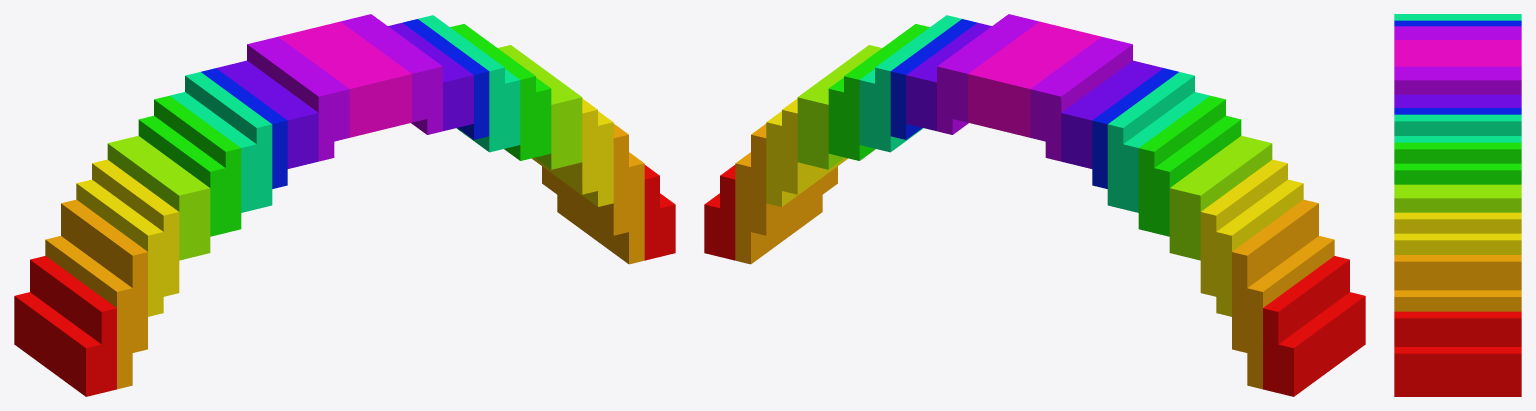
The model's file is rainbow.obj.
3 views of the same model, side by side, from view 1: azimuth 30°, elevation 25°; view 2: azimuth 150°, elevation 25°; view 3: azimuth 270°, elevation 25° (orthographic). The views are drawn at different scales.
Size of the model in its own units: 38 by 15 by 8.
1 material, 1 textured.
